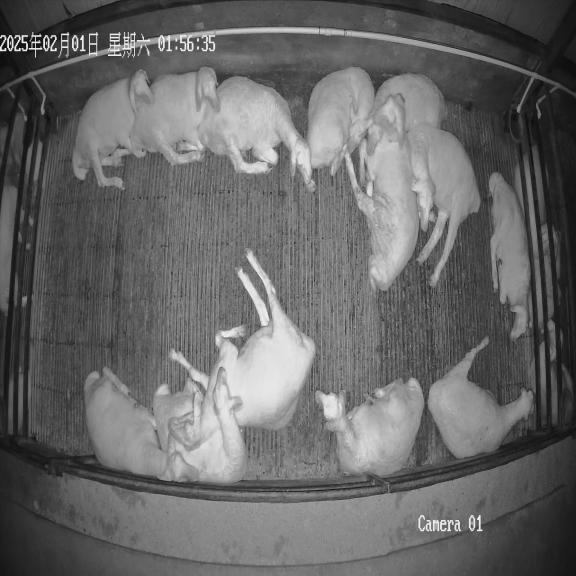lying: (168, 250, 316, 451), (345, 95, 418, 290), (198, 76, 315, 191), (427, 336, 533, 459), (84, 368, 198, 482), (407, 122, 480, 286), (153, 368, 247, 484), (315, 378, 425, 477), (72, 70, 153, 188), (131, 66, 220, 165), (307, 67, 374, 176), (489, 172, 531, 340), (366, 73, 447, 152)
